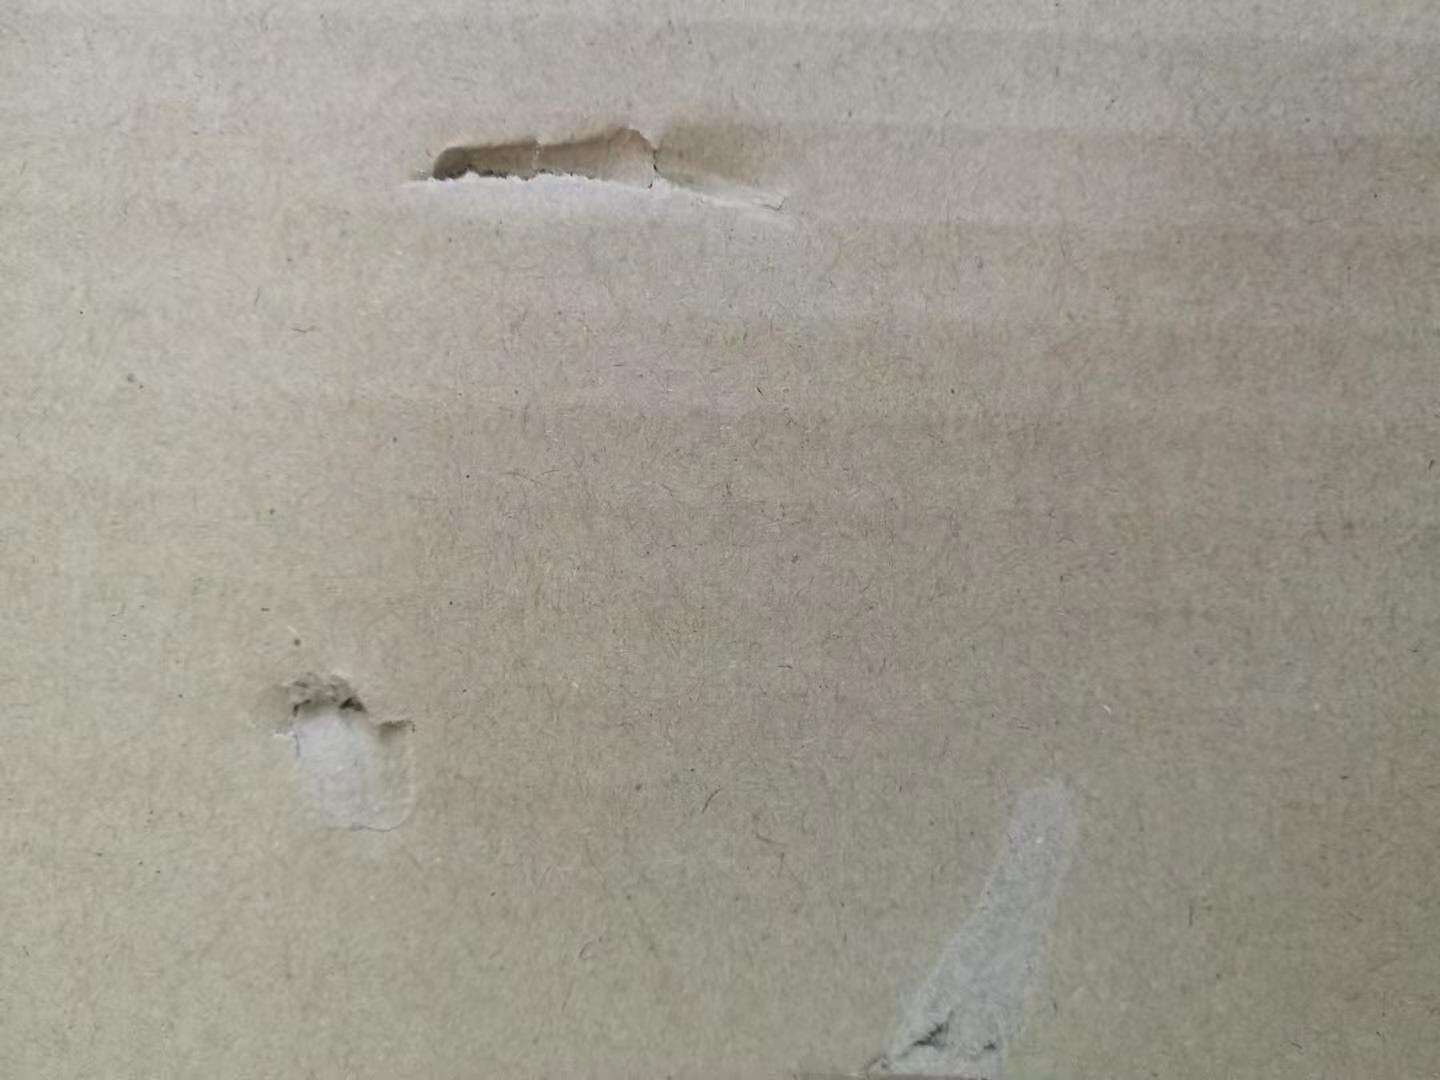defect: (821, 741, 1129, 1080), (378, 77, 835, 238), (227, 627, 471, 878)
